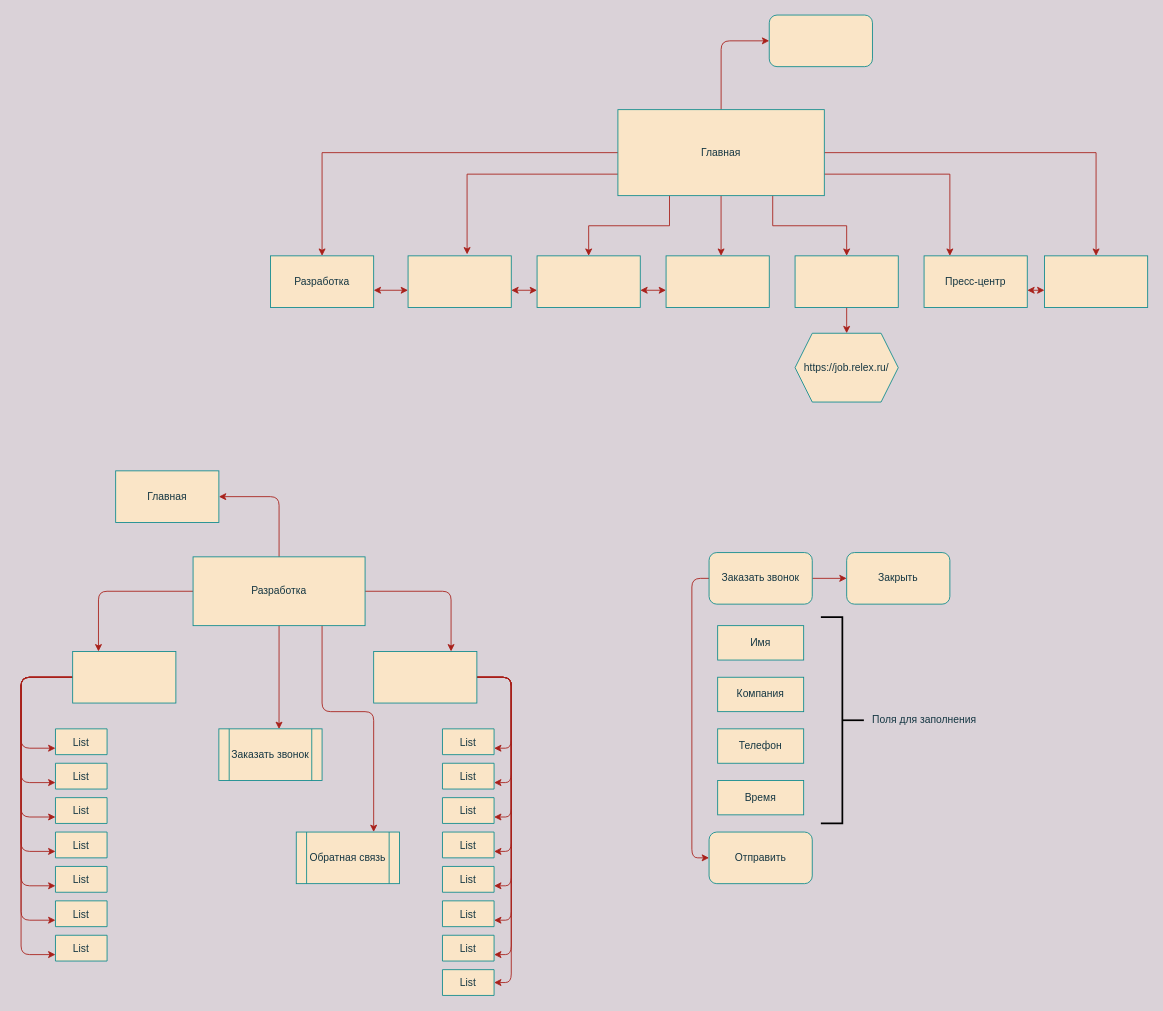
Some shapes in this 1163 by 1011 pixel diagram are drawn without their labels. Each missing label, with the box of its shape:
Карьера: (794, 255, 898, 307)
Консалтинг: (536, 255, 640, 307)
Контакты: (1044, 255, 1148, 307)
О НАС: (665, 255, 769, 307)
ПО ОТРАСЛЯМ: (72, 651, 176, 703)
ПО ТИПУ РЕШЕНИЙ: (373, 651, 477, 703)
Поиск: (768, 14, 872, 67)
СУБД: (407, 255, 511, 307)
